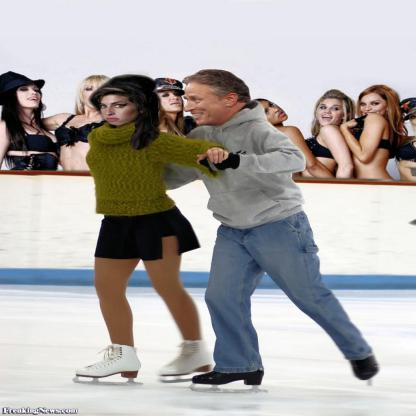face: (183, 85, 229, 126), (99, 95, 141, 128), (317, 97, 346, 126), (154, 87, 184, 114), (81, 86, 113, 111), (256, 101, 289, 125), (14, 83, 42, 109), (362, 93, 388, 118)
